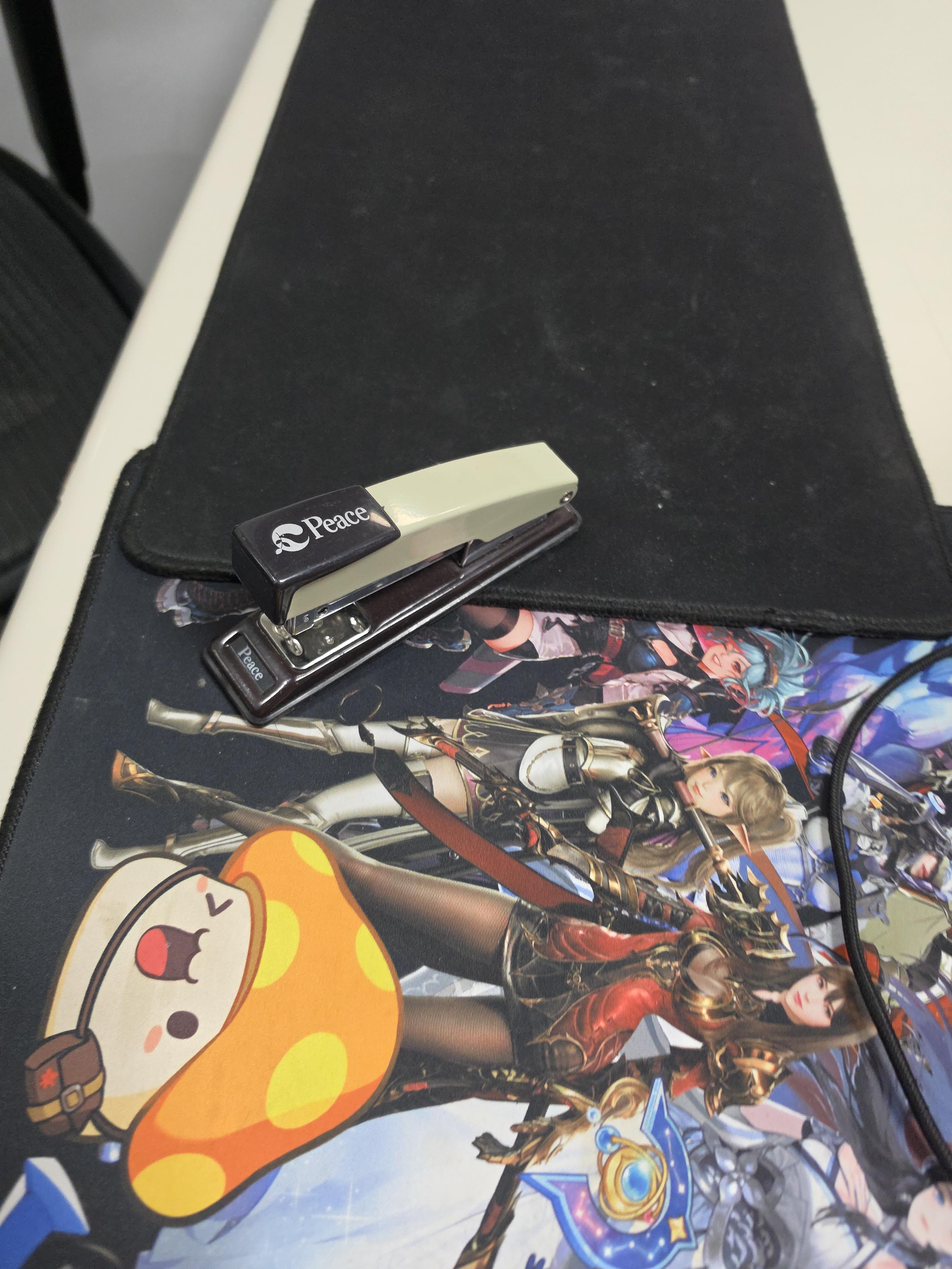stapler: (201, 441, 585, 726)
